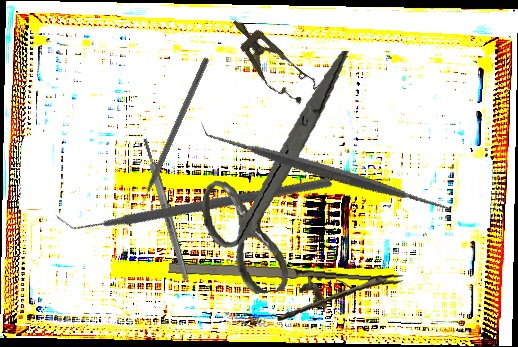Chopper: (53, 61, 334, 337), (127, 53, 210, 214)
Iris Scissors: (187, 50, 375, 299)
Needle Holder: (165, 254, 403, 332)
Scalpel Handle: (140, 137, 191, 282)
Spatula Surgical: (200, 46, 455, 297)
Speculum: (219, 7, 321, 112)
